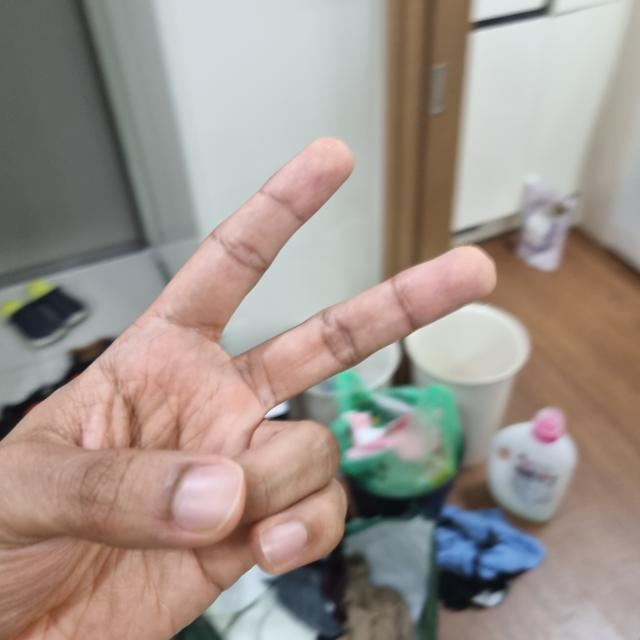Scissors: (0, 128, 496, 640)
